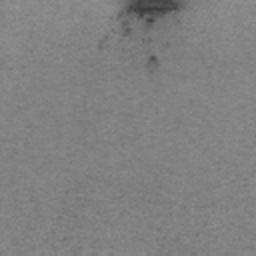Iron sheet ash: (119, 0, 184, 36), (148, 55, 157, 65)
